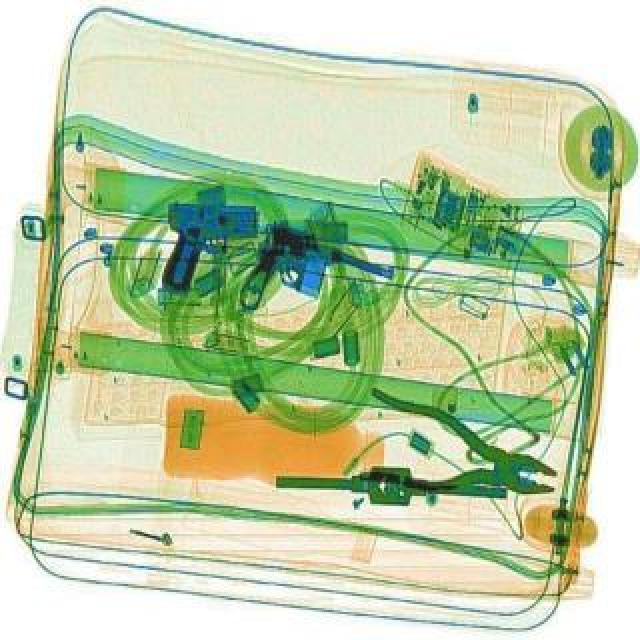gun: (238, 216, 402, 344), (160, 202, 260, 296)
wrench: (342, 384, 570, 526)
